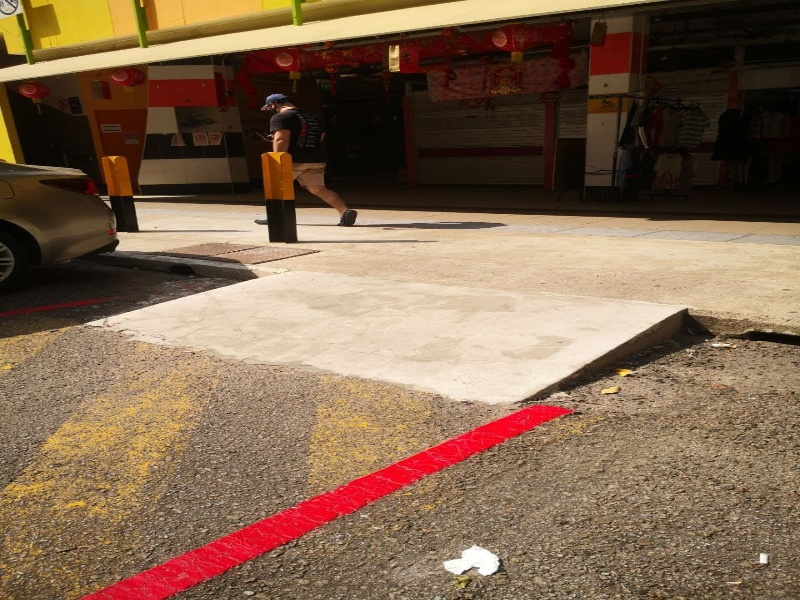slope: (1, 306, 667, 432)
